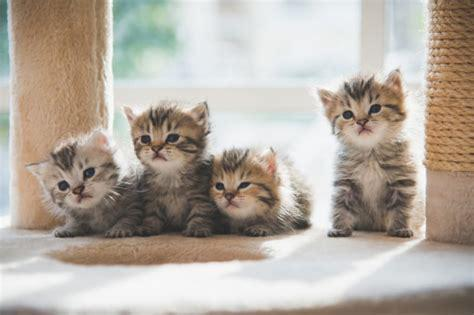cat: (315, 70, 419, 236), (121, 102, 217, 237), (26, 128, 139, 236), (210, 148, 312, 235)
